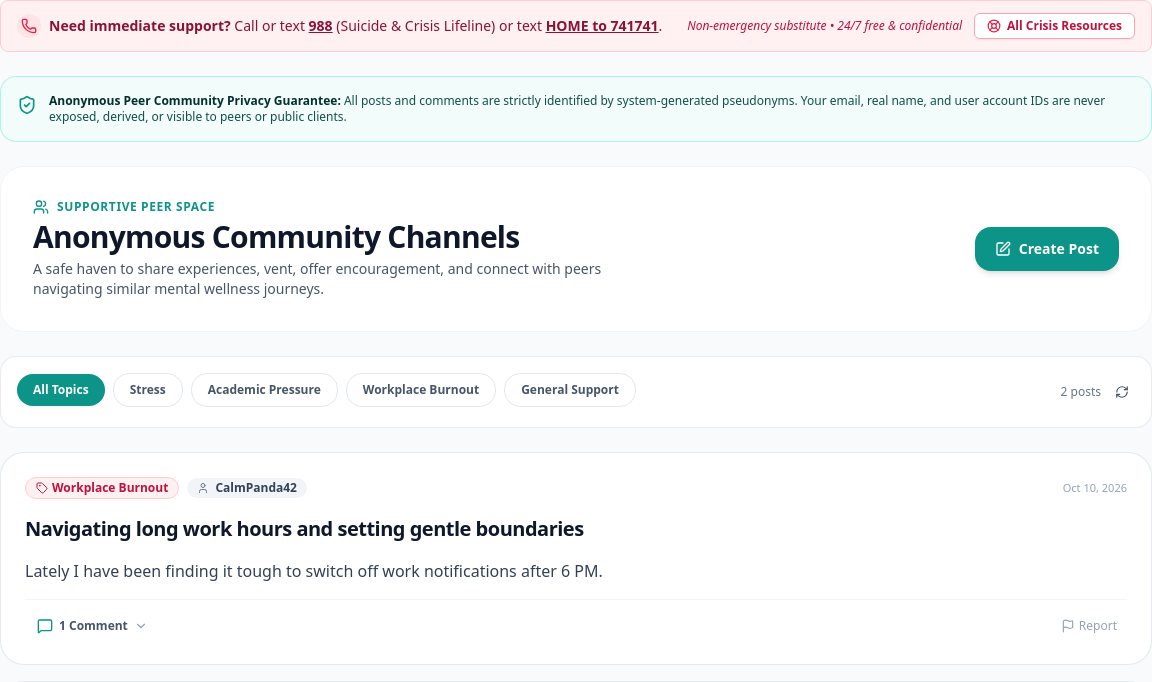
it: Anonymous Community E2E Integration Flow › expands comments drawer, displays comments, and adds a comment / reply (<= 1,000 chars)
# Expand comments
Click the button with test id "toggle-comments-btn-post-1" at [92, 626], box left=25, top=612, right=160, bottom=640
(page scrolled)
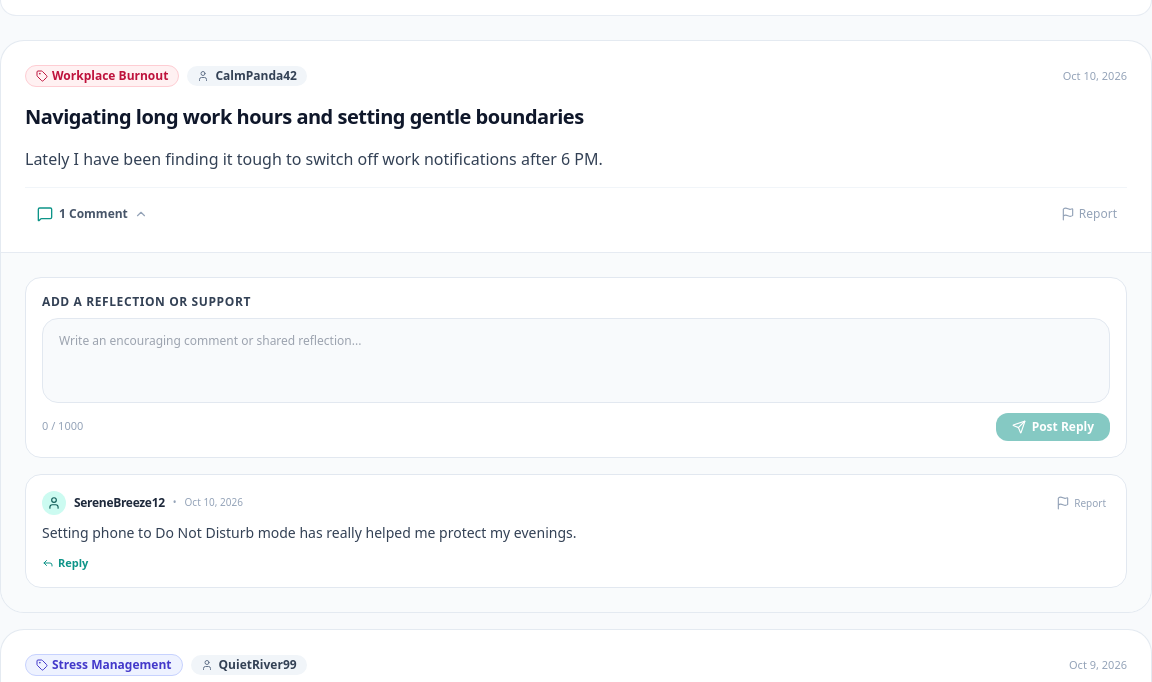
Check: the text "SereneBreeze12" is shown, box left=74, top=494, right=165, bottom=510
Check: the text "Setting phone to Do Not Disturb mode has really helped me protect my evenings." is shown, box left=42, top=522, right=576, bottom=542
# Submit a new comment
Type "Thank you for this advice! Starting this routine tonight." into the text box with test id "comment-input-textarea" at [576, 360], box left=42, top=318, right=1110, bottom=402
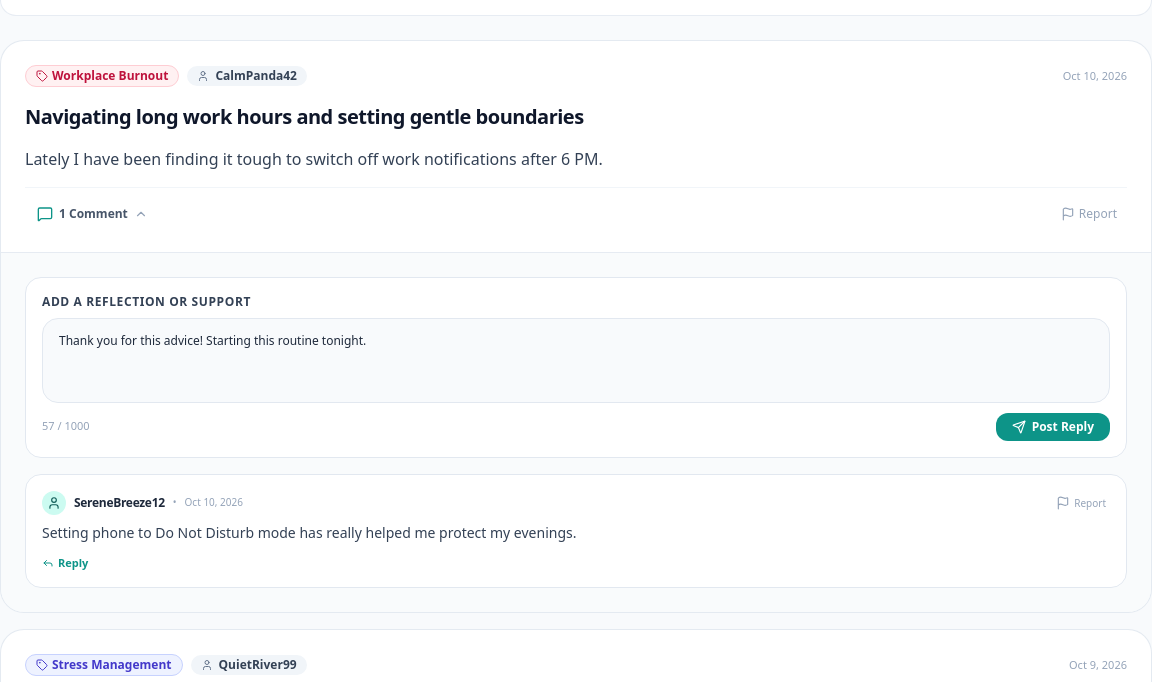
Click the button with test id "submit-comment-btn" at [1053, 426], box left=996, top=412, right=1110, bottom=440
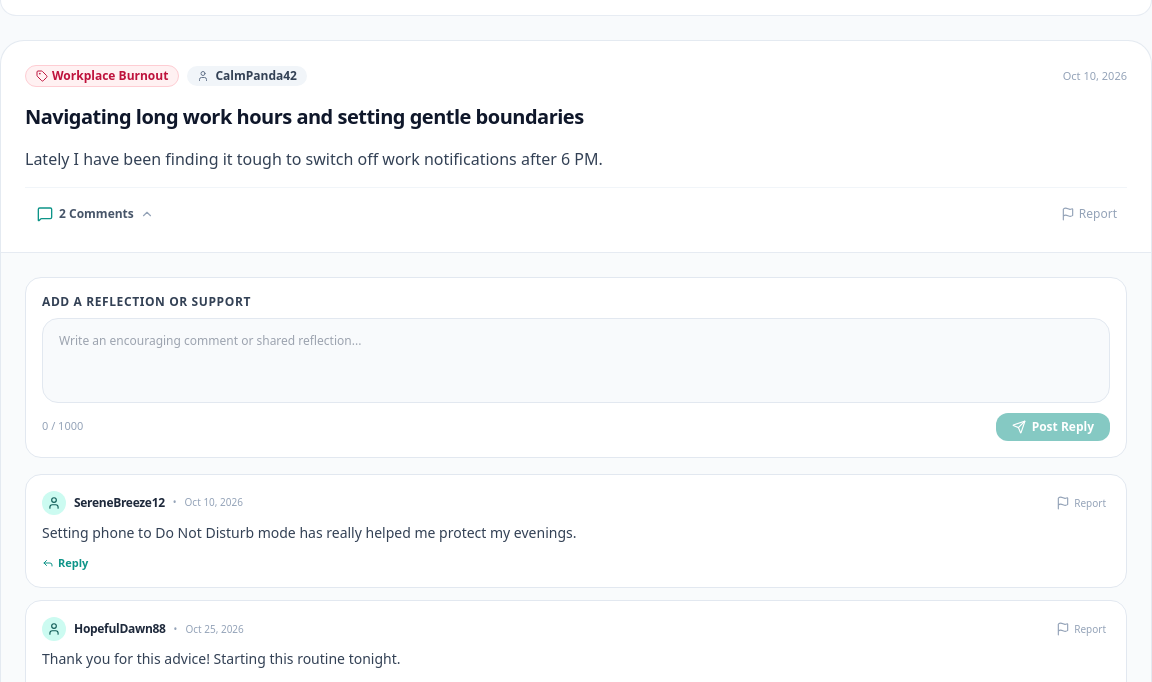
Check: the text "HopefulDawn88" is shown, box left=74, top=621, right=166, bottom=637
Check: the text "Thank you for this advice! Starting this routine tonight." is shown, box left=42, top=649, right=400, bottom=668
